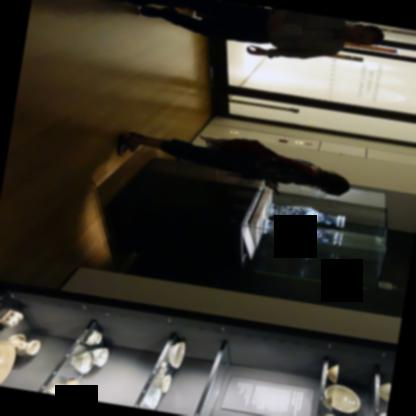handbag: (198, 135, 321, 182)
